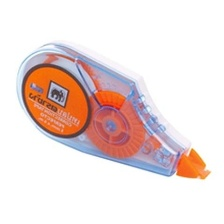correction_fluid: (13, 36, 213, 183)
